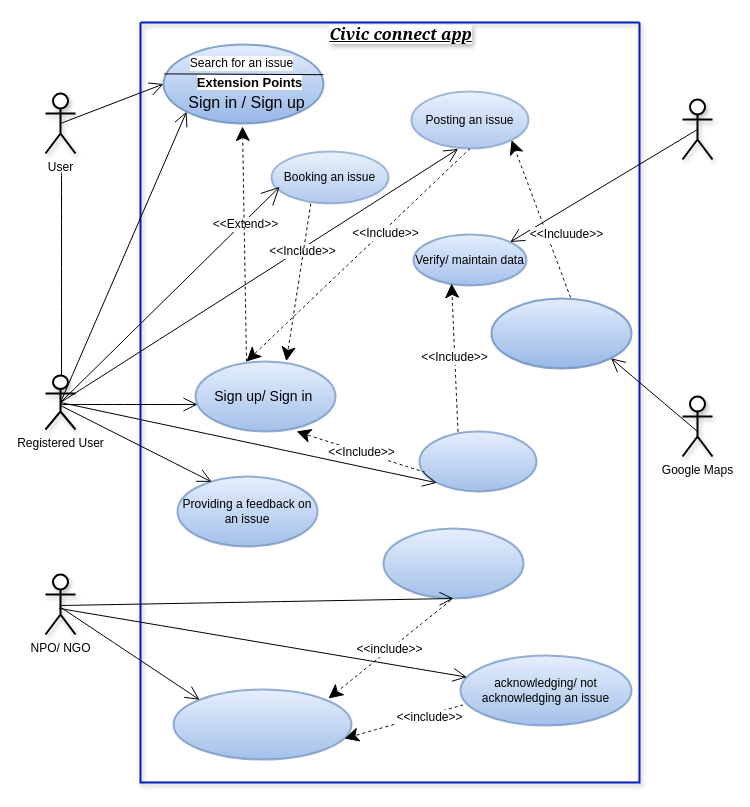
This 750x807 diagram has some shape labels left out. The shapes that lost their labels are listed below. From the top down, each one's centre as x and y in pixels, then its label:
point 698,130: Admin
point 561,333: Add geolocation
point 477,461: Reporting and issue
point 453,563: Changing status
point 262,724: Sign up/ sign in for NGO/NPO
